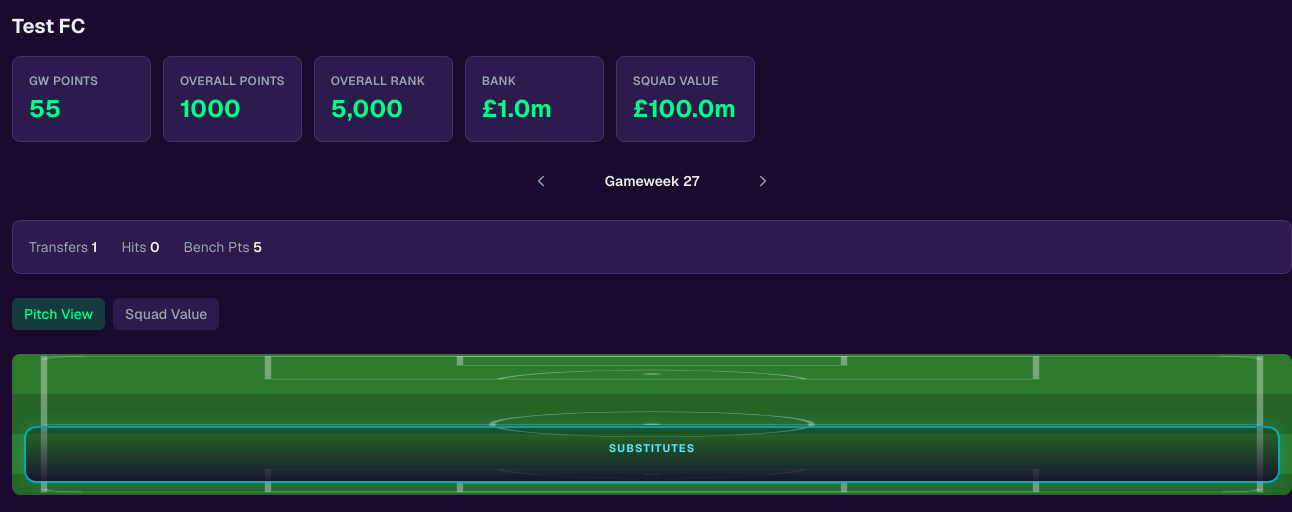
Test case: TeamPage pending squad › shows generic error message when pending picks returns non-auth error
Click the button named "next gameweek": [763, 181] box [748,166,778,196]
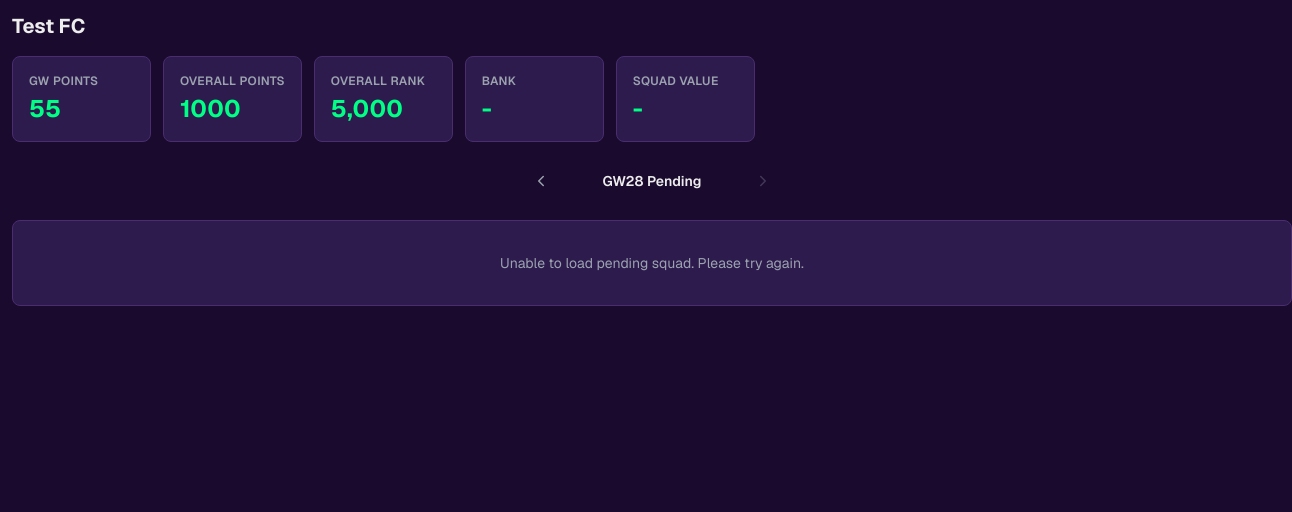
Check: the text "Unable to load pending squad. Please try again." is shown, box [500,254,804,272]
